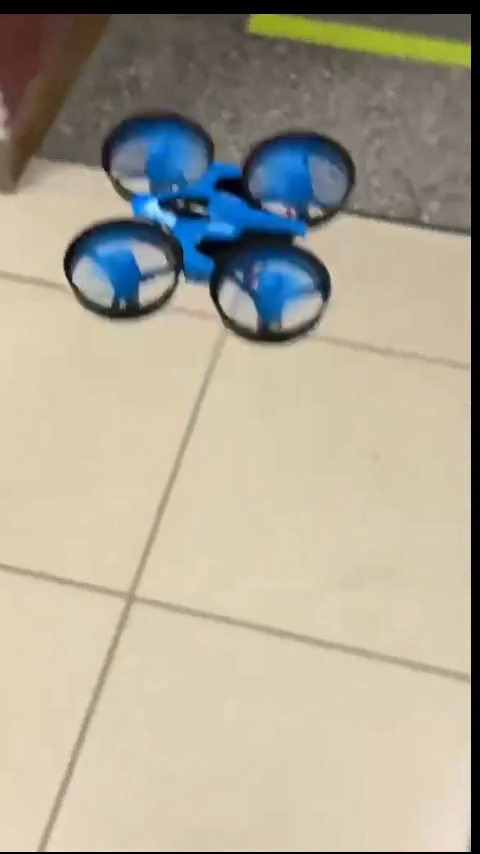drone: (65, 115, 352, 340)
